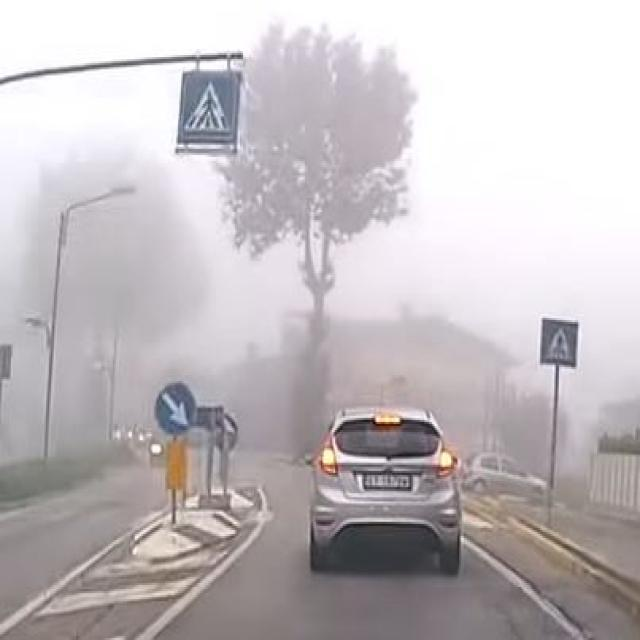Car: (306, 402, 463, 576)
Pedestrian crosswalk: (184, 75, 236, 141), (543, 319, 576, 365)
